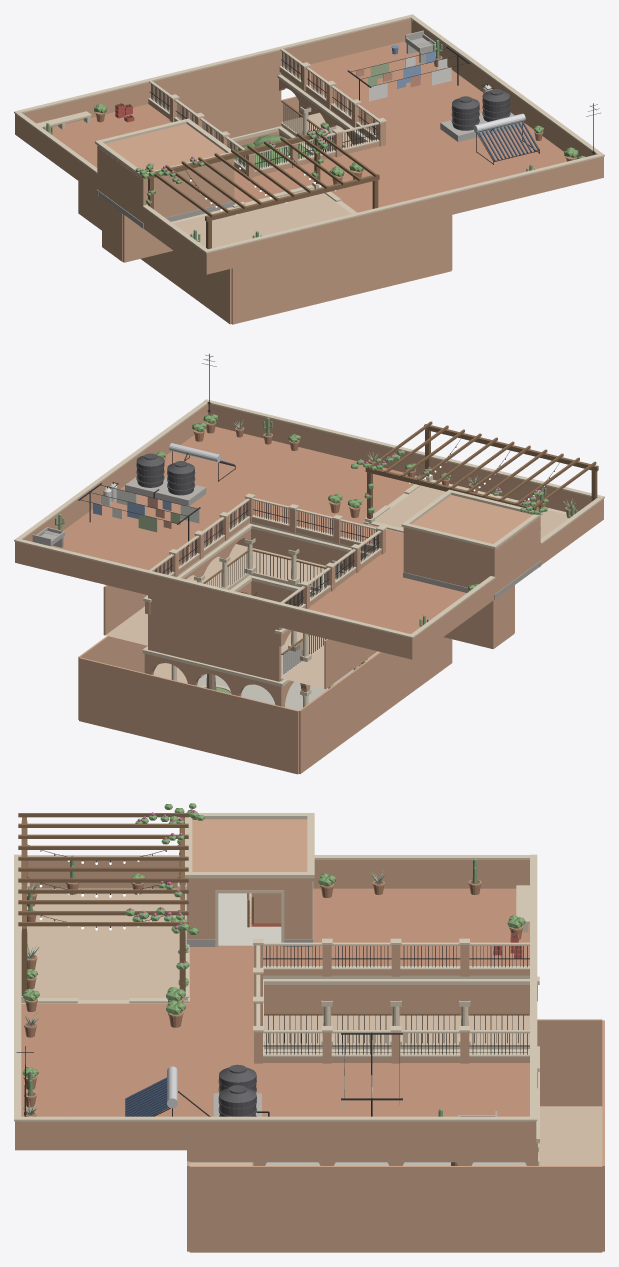
3 views of the same model, one above another, from view 1: azimuth 30°, elevation 25°; view 2: azimuth 150°, elevation 25°; view 3: azimuth 270°, elevation 25° (orthographic). The views are drawn at different scales.
Parts seen in each view (by area): view 1: az_piso_ladrillo, az_abajo0_pared, az_muro_ph0_0, az_muro_ph300_0, az_pergola, az_abajo1_fondo, az_piso_corredor, az_muro_tapa, az_muro_h100_0, az_muro_pv360_0, az_barandal_pil, az_barandal_rej (+25 smaller); view 2: az_piso_ladrillo, az_abajo0_pared, az_muro_ph300_0, az_abajo1_fondo, az_muro_ph0_0, az_pergola, az_abajo1_corredor, az_abajo1_pared, az_muro_h170_0, az_muro_tapa, az_barandal_pil, az_barandal_rej (+24 smaller); view 3: az_piso_ladrillo, az_abajo0_pared, az_muro_pv360_0, az_piso_corredor, az_pergola, az_abajo1_pared, az_muro_tapa, az_abajo1_corredor, az_muro_pv0_170, az_barandal_pil, az_barandal_can, az_abajo0_corredor (+28 smaller).
Part boxes in pixels (x1,y1,x2,y2): az_piso_ladrillo: (45, 41, 566, 212); az_abajo0_pared: (78, 96, 452, 324); az_muro_ph0_0: (204, 156, 603, 274); az_muro_ph300_0: (15, 19, 410, 135); az_pergola: (147, 129, 379, 248); az_abajo1_fondo: (158, 72, 281, 140); az_piso_corredor: (173, 189, 351, 248); az_muro_tapa: (97, 124, 225, 180); az_muro_h100_0: (141, 158, 234, 222); az_muro_pv360_0: (411, 19, 595, 159); az_barandal_pil: (148, 66, 385, 177); az_barandal_rej: (150, 52, 378, 169); az_piso_ladrillo: (51, 426, 466, 633); az_abajo0_pared: (78, 589, 452, 774); az_muro_ph300_0: (15, 541, 414, 659); az_abajo1_fondo: (148, 595, 281, 681); az_muro_ph0_0: (208, 404, 603, 520); az_pergola: (365, 421, 598, 518); az_abajo1_corredor: (105, 544, 345, 688); az_abajo1_pared: (103, 536, 377, 689); az_muro_h170_0: (403, 529, 496, 593); az_muro_tapa: (403, 495, 540, 551); az_barandal_pil: (169, 497, 385, 608); az_barandal_rej: (153, 501, 379, 606); az_piso_ladrillo: (21, 888, 529, 1116); az_abajo0_pared: (187, 1019, 604, 1252); az_muro_pv360_0: (20, 1121, 530, 1150); az_piso_corredor: (27, 893, 180, 999); az_pergola: (18, 813, 188, 995); az_abajo1_pared: (187, 989, 533, 1162); az_muro_tapa: (188, 819, 312, 881); az_abajo1_corredor: (264, 1015, 529, 1044); az_muro_pv0_170: (312, 860, 529, 888); az_barandal_pil: (254, 945, 529, 1063); az_barandal_can: (253, 938, 530, 1056); az_abajo0_corredor: (189, 1106, 602, 1165).
Bounding box in the file's own units: 36.89 × 16.73 × 34.36.
